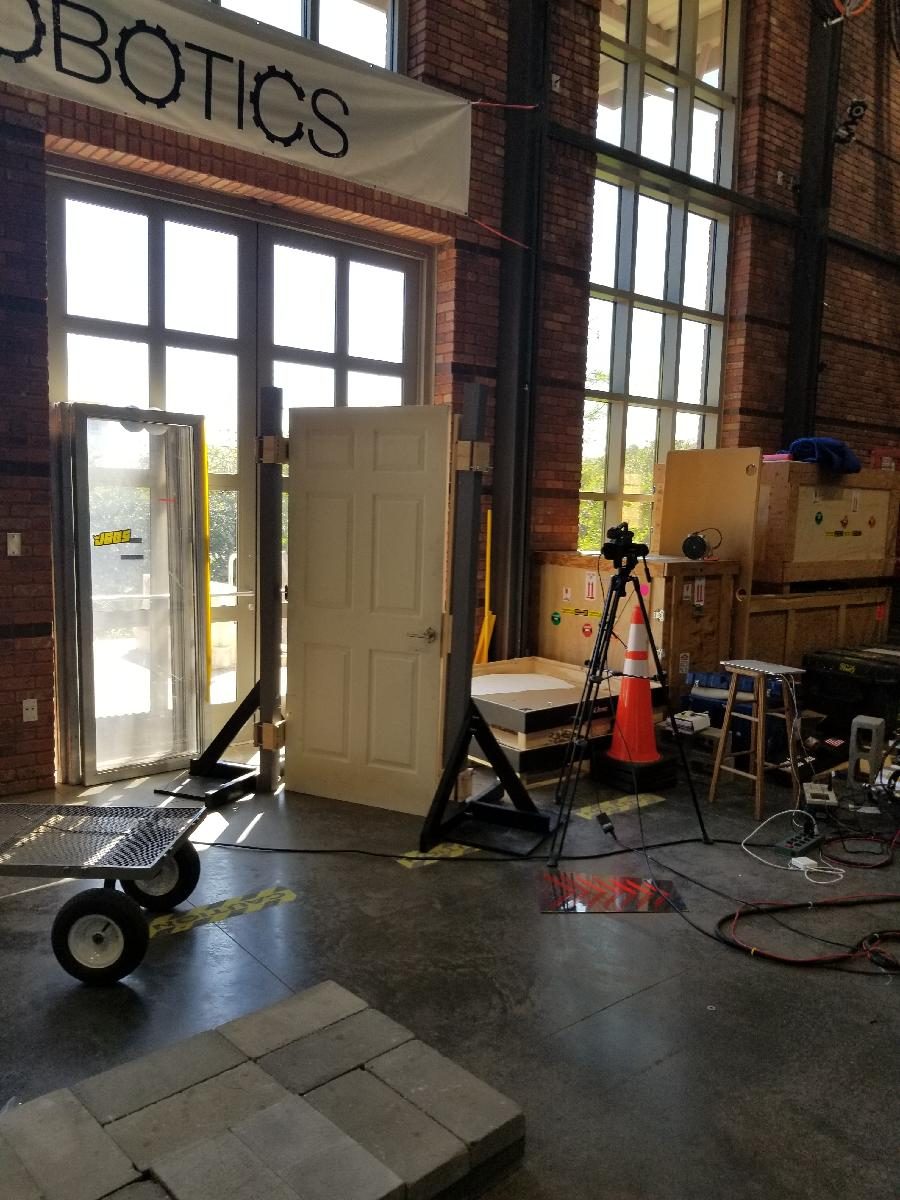door: (282, 403, 456, 824)
doorHandle: (408, 624, 437, 644)
